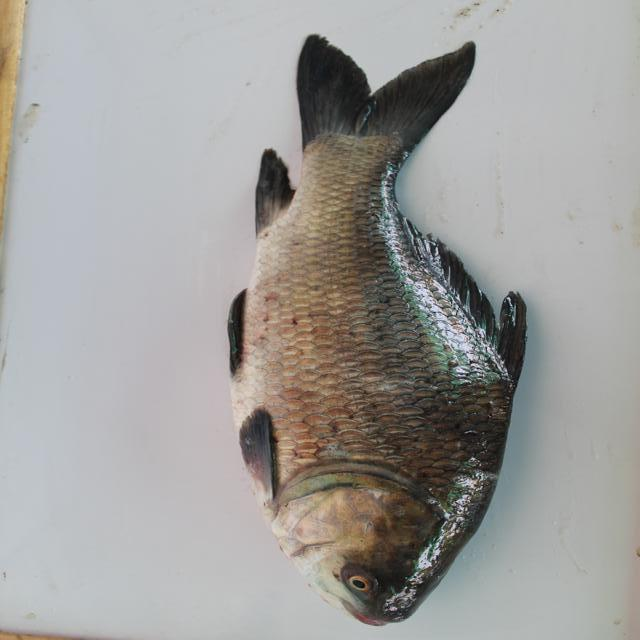Catla: (222, 31, 547, 629)
